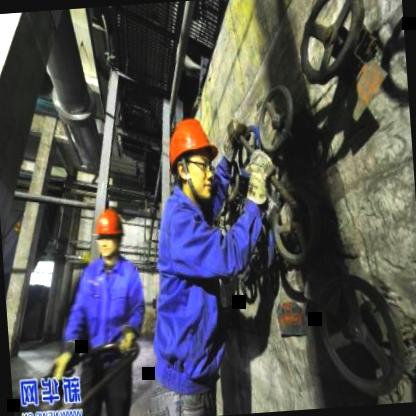helmet: (162, 115, 223, 200), (91, 205, 128, 263)
